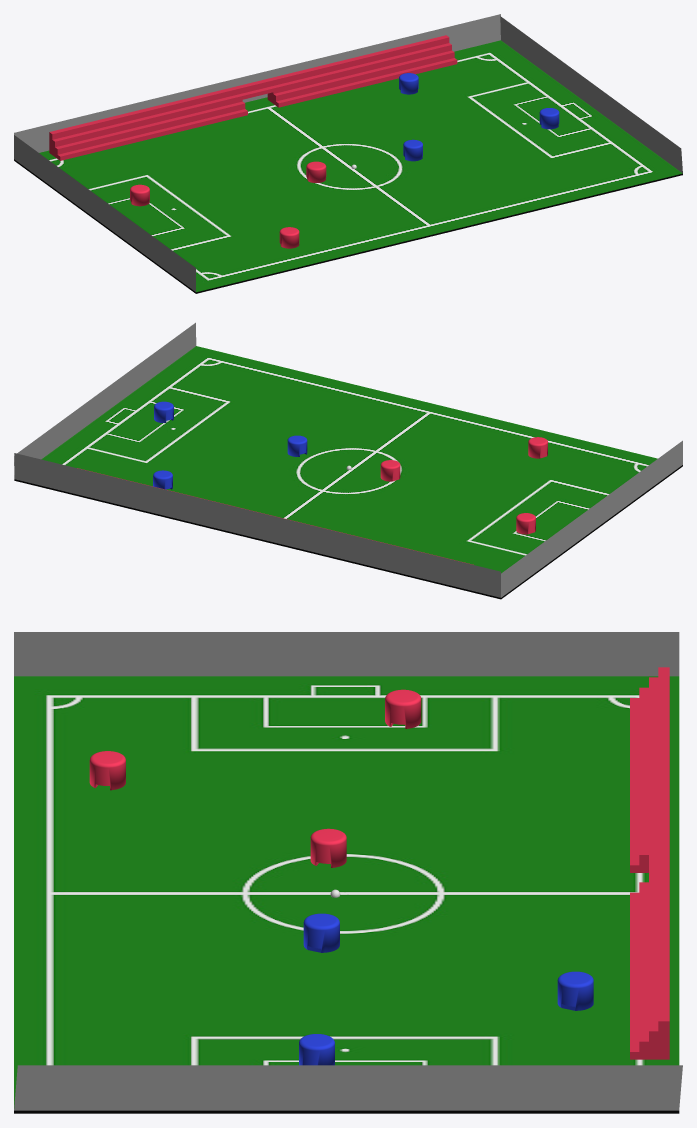
File: SKillKicks (1).glb
3 views of the same model, one above another, from view 1: azimuth 30°, elevation 25°; view 2: azimuth 150°, elevation 25°; view 3: azimuth 270°, elevation 25° (orthographic). The views are drawn at different scales.
Parts seen in each view (by area): view 1: Plane, Cube.004; view 2: Plane; view 3: Plane, Cube.004, Cylinder.001, Cylinder.002, Cylinder.004, Cylinder.005, Cylinder, Cylinder.003.
Part boxes in pixels (x1=…): Plane: x1=14, y1=14, x2=682, y2=293; Cube.004: x1=49, y1=35, x2=457, y2=160; Plane: x1=14, y1=322, x2=682, y2=599; Plane: x1=14, y1=632, x2=682, y2=1113; Cube.004: x1=630, y1=667, x2=669, y2=1059; Cylinder.001: x1=303, y1=913, x2=339, y2=952; Cylinder.002: x1=557, y1=971, x2=593, y2=1010; Cylinder.004: x1=385, y1=689, x2=421, y2=728; Cylinder.005: x1=89, y1=751, x2=125, y2=790; Cylinder: x1=310, y1=828, x2=346, y2=867; Cylinder.003: x1=299, y1=1034, x2=334, y2=1065.
Bounding box in the file's own units: 9.12 × 0.5109 × 5.94.
Materials: 6 (1 with a texture image).
